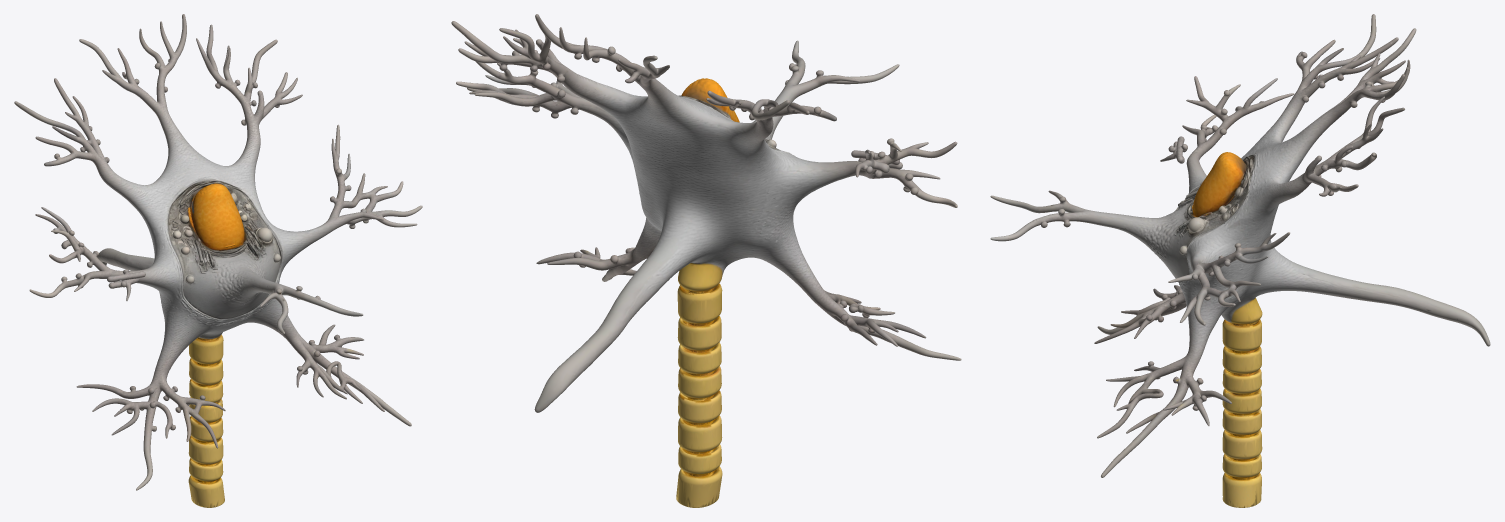
Rendered from neuron.glb.
3 renders of one model, left to right at view 1: azimuth 30°, elevation 25°; view 2: azimuth 150°, elevation 25°; view 3: azimuth 270°, elevation 25°, orthographic. The views are drawn at different scales.
Parts seen in each view (by area): view 1: node_0; view 2: node_0; view 3: node_0.
Boxes of the visible parts, box(x1,y1,x2,y2) form: node_0: box(14, 14, 422, 507); node_0: box(451, 14, 961, 507); node_0: box(990, 14, 1490, 507).
Bounding box in the file's own units: 0.9444 × 0.9774 × 0.9786.
Materials: 1 (1 with a texture image).
